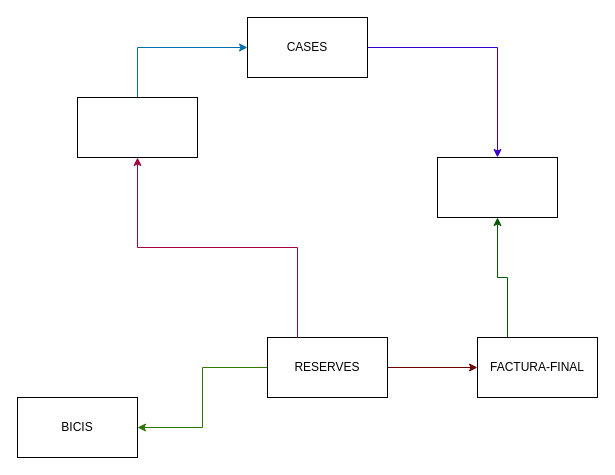
Image size: 615x475. Some labels were removed from this diagram. The shapes that lost their labels are listed below. From the top down, each one's centre as x and y in pixels, then its label:
At point (137, 127): "RUTES".
At point (497, 187): "FACTURA-CASA".
